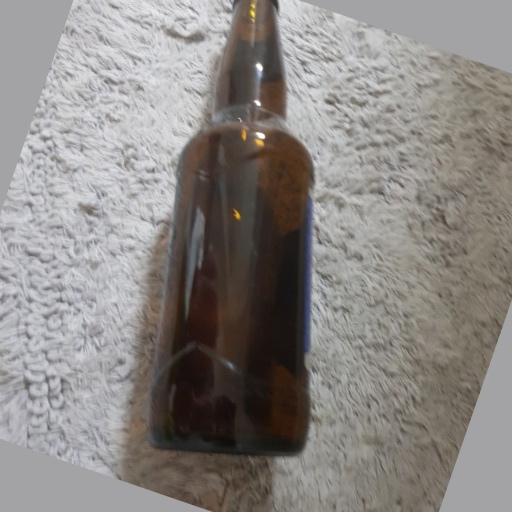Glass_1: (157, 2, 321, 461)
